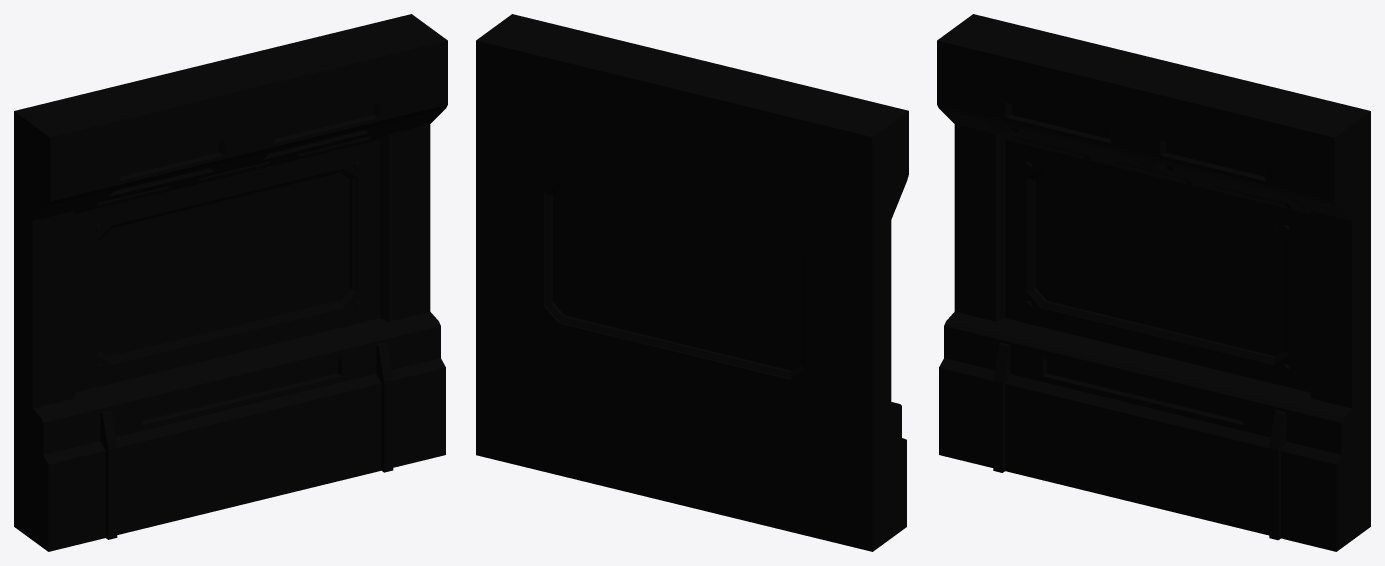
File: space_SM_Bld_Wall_04.gltf
The picture shows the model from 3 angles, left to right: view 1: azimuth 30°, elevation 25°; view 2: azimuth 150°, elevation 25°; view 3: azimuth 330°, elevation 25°; orthographic projection.
Parts seen in each view (by area): view 1: SM_Bld_Wall_04, SM_Bld_Wall_Glass_04; view 2: SM_Bld_Wall_04, SM_Bld_Wall_Glass_04; view 3: SM_Bld_Wall_04, SM_Bld_Wall_Glass_04.
Part boxes in pixels (x1,y1,x2,y2): SM_Bld_Wall_04: (14, 14, 447, 551); SM_Bld_Wall_Glass_04: (99, 172, 349, 356); SM_Bld_Wall_04: (476, 14, 908, 551); SM_Bld_Wall_Glass_04: (553, 188, 802, 370); SM_Bld_Wall_04: (937, 14, 1370, 551); SM_Bld_Wall_Glass_04: (1035, 172, 1285, 356).
Size of the model in its own units: 5 by 5 by 0.8078.
Materials: 1 (1 with a texture image).
